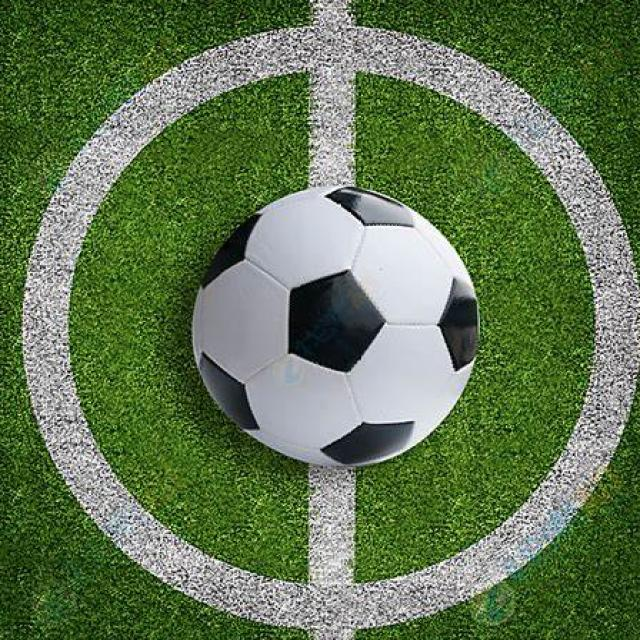football: (174, 181, 512, 490)
